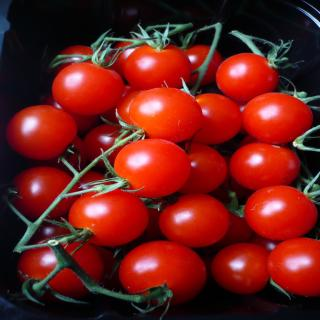tomato: (96, 239, 208, 320), (77, 136, 191, 199), (47, 186, 147, 248), (51, 39, 133, 113), (21, 238, 105, 303), (216, 40, 302, 99), (121, 23, 190, 92), (7, 104, 84, 160), (246, 182, 316, 241), (156, 194, 229, 248), (131, 86, 201, 142), (242, 92, 312, 142), (231, 143, 298, 191), (212, 240, 273, 291), (13, 170, 76, 218), (268, 238, 320, 295), (179, 32, 226, 88), (55, 28, 109, 76), (193, 91, 240, 146), (179, 139, 225, 195)
